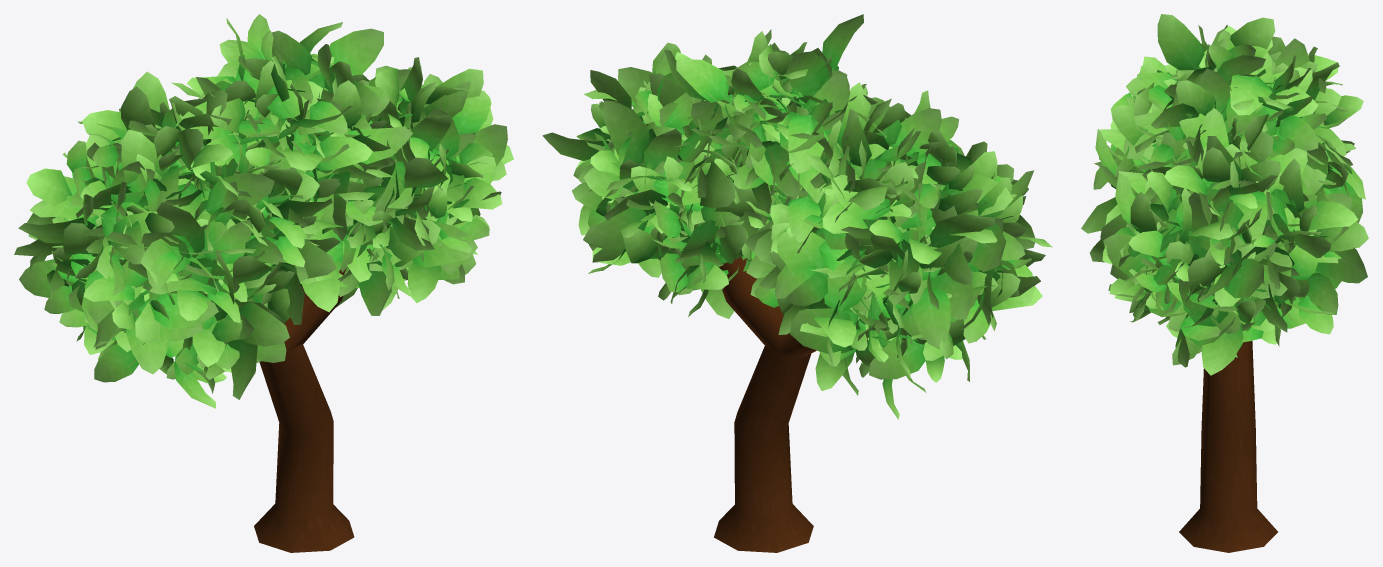
File: Tree.fbx
The picture shows the model from 3 angles, left to right: view 1: azimuth 30°, elevation 25°; view 2: azimuth 150°, elevation 25°; view 3: azimuth 270°, elevation 25°; orthographic projection. The views are drawn at different scales.
Visible parts, largest first — view 1: Tree; view 2: Tree; view 3: Tree.
Part boxes in pixels (x1,y1,x2,y2): Tree: (14,14,513,552); Tree: (542,14,1052,552); Tree: (1081,14,1368,552).
Bounding box in the file's own units: 559 × 585 × 313.
1 material, 1 textured.
